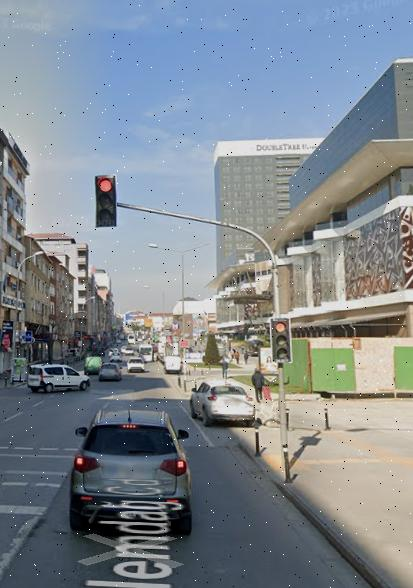redlight: (95, 173, 115, 227), (270, 316, 292, 363)
